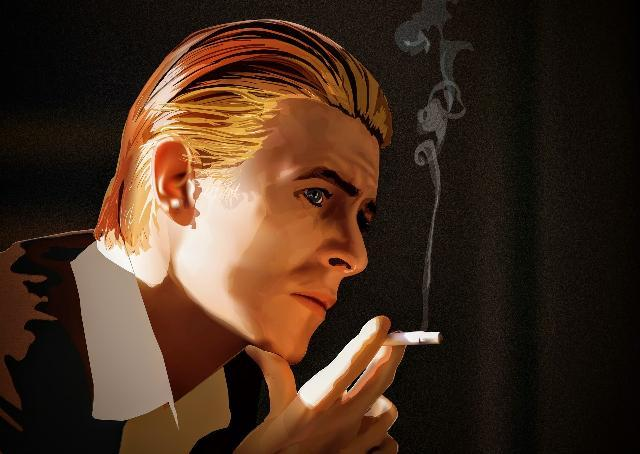SafeDriving: (288, 170, 338, 214)
Smoking: (380, 330, 446, 348)
